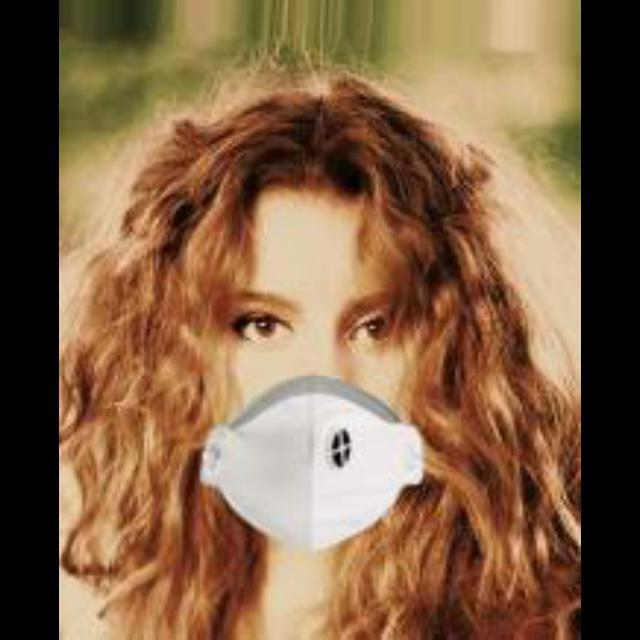suspicion: (119, 162, 521, 536)
